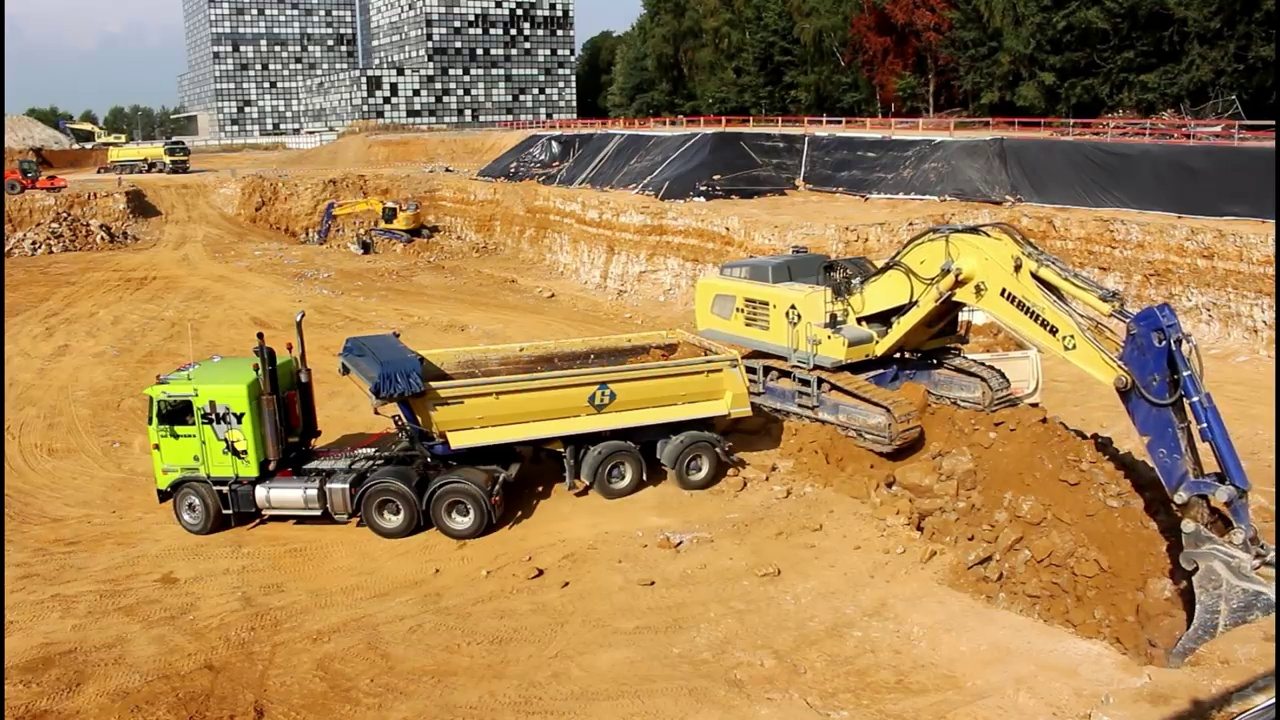compactor: (4, 154, 74, 198)
excavator: (690, 220, 1280, 668), (308, 196, 440, 259), (59, 114, 132, 154)
truck: (137, 306, 757, 547), (870, 264, 1050, 437), (106, 137, 194, 176)
